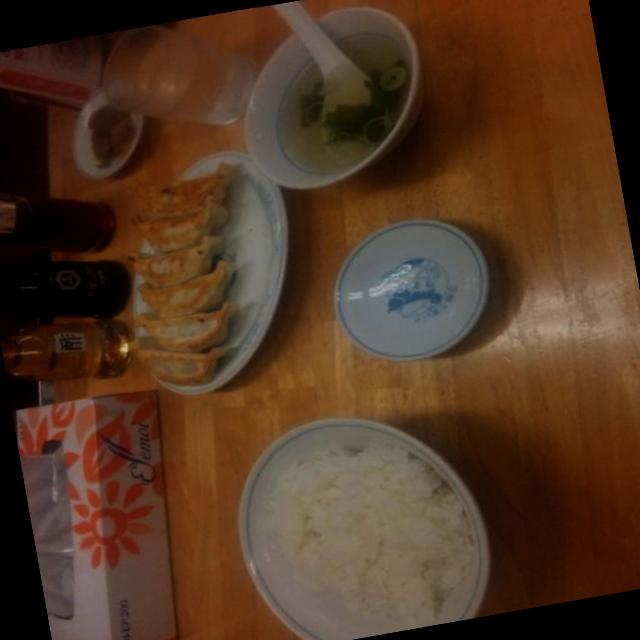Rice: (237, 416, 493, 640)
